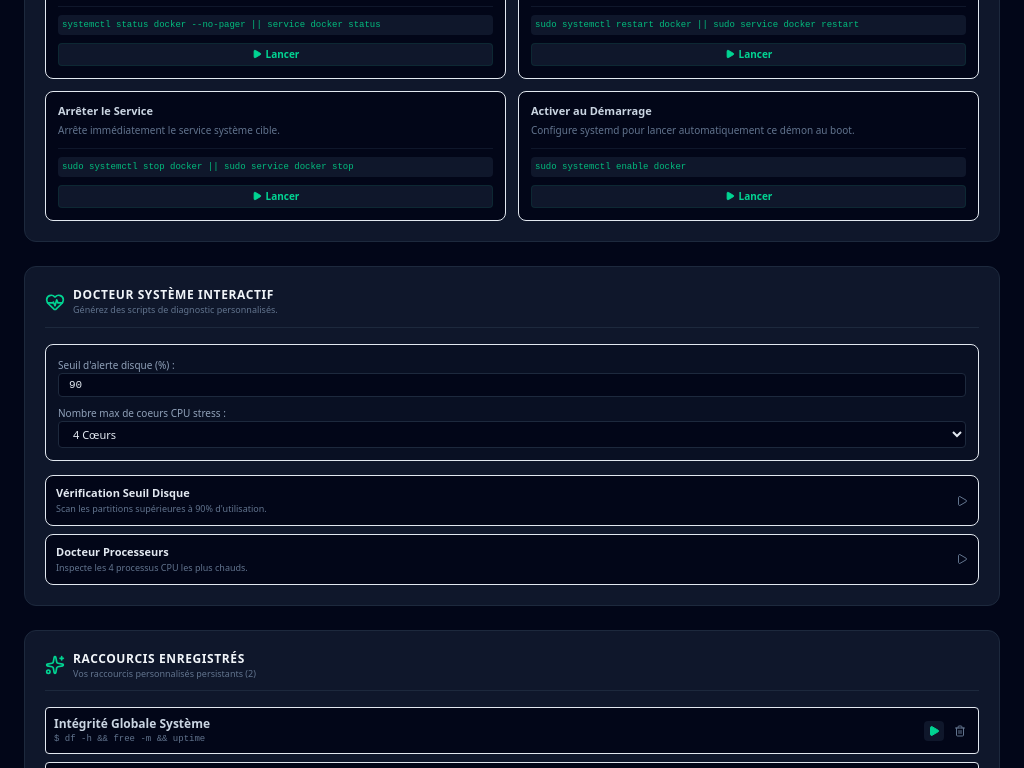
Scenario: MaintenanceHub Component › met à jour le seuil d'alerte disque
(page scrolled)
Step 1. Replace the text in the number field with "95" → (512, 385), box [58,373,966,397]
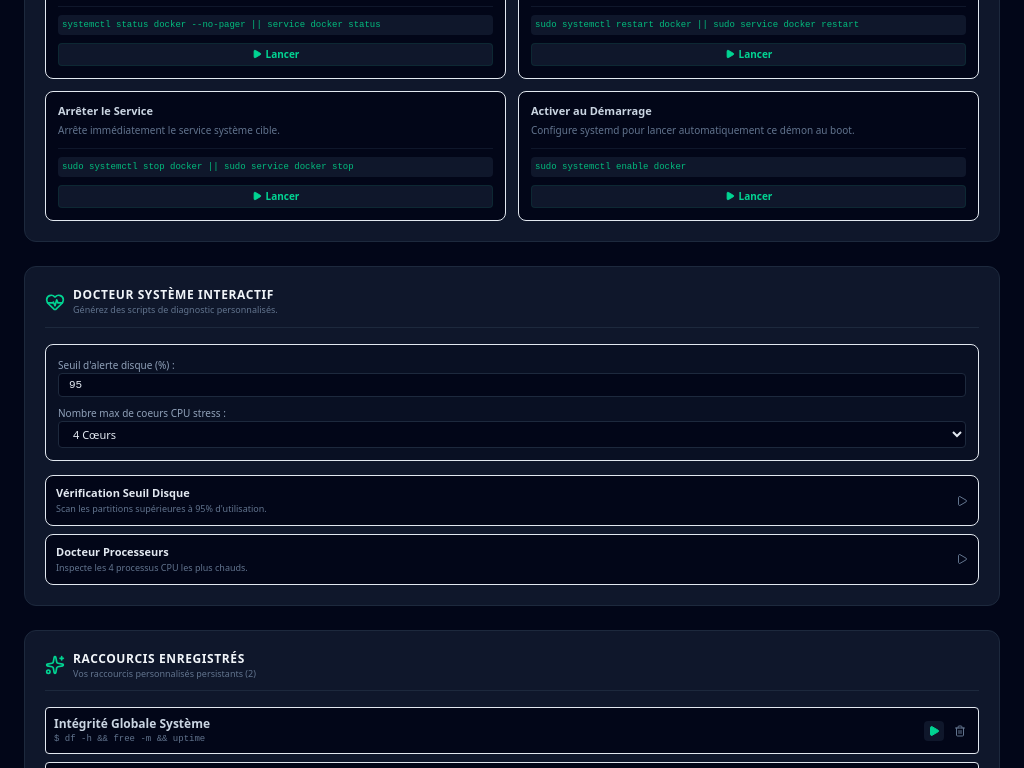
Now the text "Scan les partitions supérieures à 95% d'utilisation." is shown, box [56,503,267,515]
